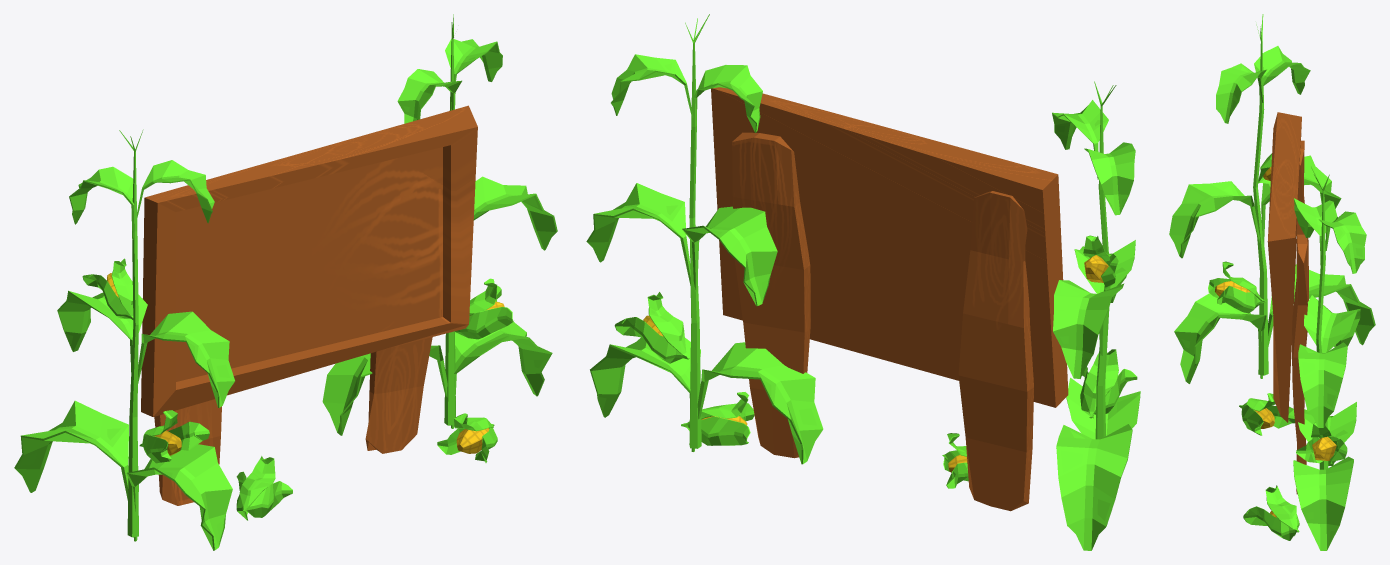
The model's file is Wegbeschreibung.fbx.
3 views of the same model, side by side, from view 1: azimuth 30°, elevation 25°; view 2: azimuth 150°, elevation 25°; view 3: azimuth 270°, elevation 25° (orthographic). The views are drawn at different scales.
Parts seen in each view (by area): view 1: Cube.004; view 2: Cube.004; view 3: Cube.004.
Part boxes in pixels (x1,y1,x2,y2): Cube.004: [14, 14, 557, 550]; Cube.004: [586, 14, 1140, 550]; Cube.004: [1169, 14, 1375, 550].
Bounding box in the file's own units: 1777 × 1388 × 712.
5 materials, 5 textured.
